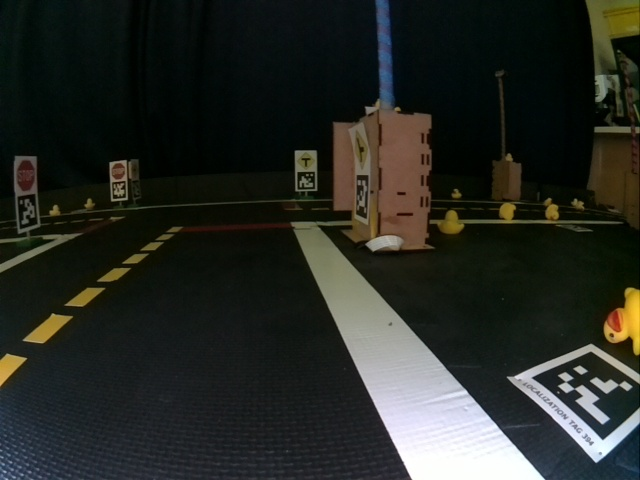Duckie: (605, 287, 638, 356), (438, 211, 463, 233), (499, 204, 515, 220), (550, 207, 558, 221), (452, 188, 461, 198), (506, 153, 515, 162)
Intersection sign: (349, 125, 370, 171), (296, 151, 316, 170)
QR code: (507, 345, 640, 461), (16, 198, 37, 229), (356, 176, 369, 220), (297, 172, 314, 190), (111, 184, 125, 199)
Stop sign: (16, 159, 36, 192), (110, 163, 125, 180)
